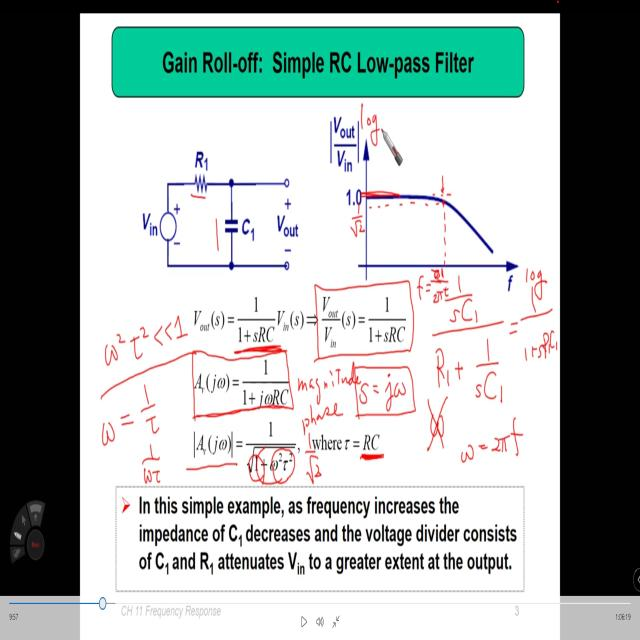panseo: (410, 261, 560, 484), (86, 298, 192, 488), (293, 357, 417, 491), (325, 102, 385, 263), (202, 211, 228, 255)
